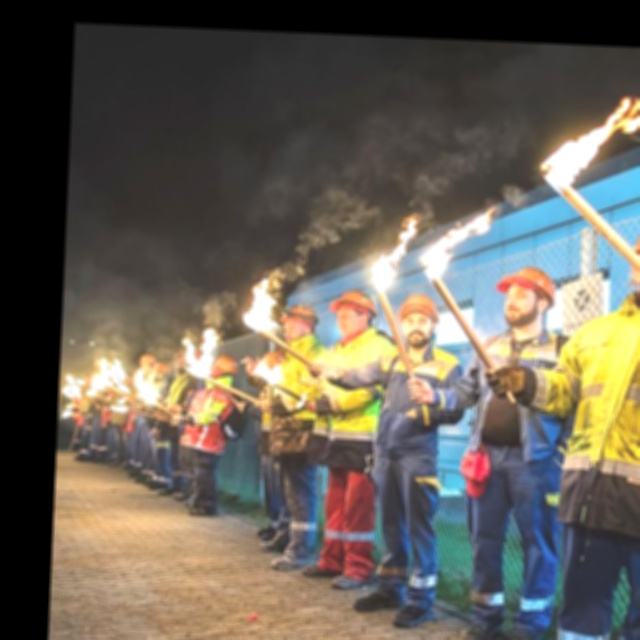Con_Casco: (493, 265, 557, 330), (321, 290, 375, 339), (398, 293, 442, 346)
